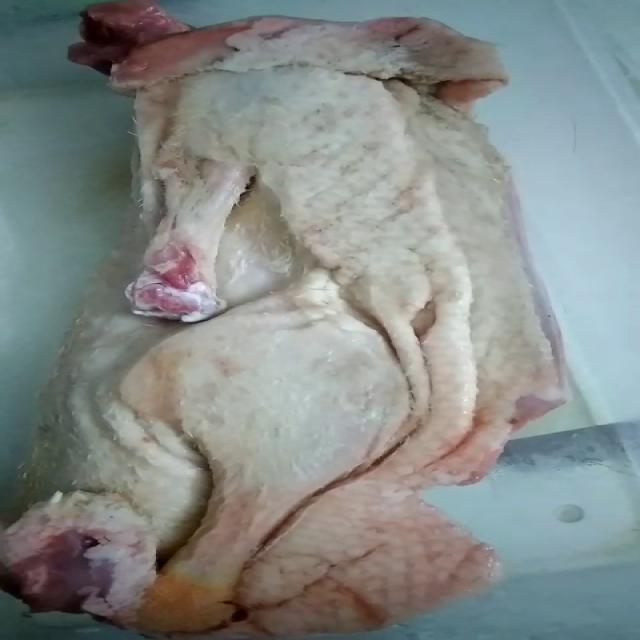chicken: (1, 0, 571, 637)
